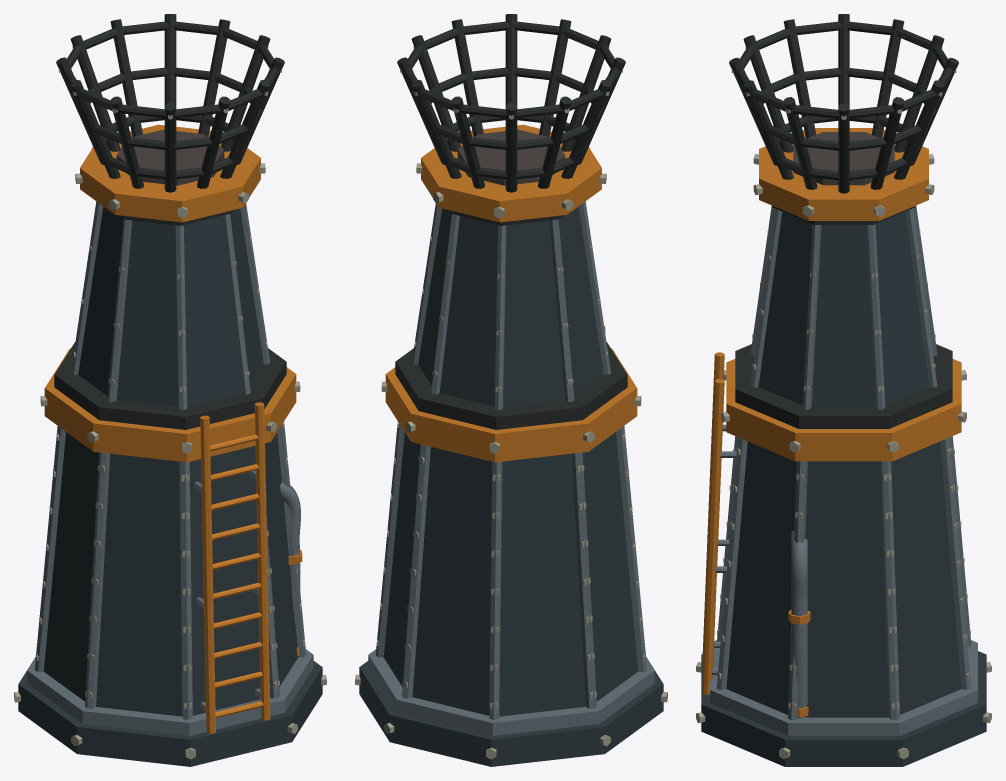
File: wsc-kit-007-storm-beacon.glb
3 renders of one model, left to right at view 1: azimuth 30°, elevation 25°; view 2: azimuth 150°, elevation 25°; view 3: azimuth 270°, elevation 25°, orthographic.
Parts seen in each view (by area): view 1: Beacon_Body_and_Socket, Beacon_Cage_and_Hardware; view 2: Beacon_Body_and_Socket, Beacon_Cage_and_Hardware; view 3: Beacon_Body_and_Socket, Beacon_Cage_and_Hardware.
Boxes of the visible parts, <box> form: Beacon_Body_and_Socket: <box>18,124,322,766</box>; Beacon_Cage_and_Hardware: <box>14,14,326,759</box>; Beacon_Body_and_Socket: <box>359,124,663,766</box>; Beacon_Cage_and_Hardware: <box>355,14,667,759</box>; Beacon_Body_and_Socket: <box>701,128,986,766</box>; Beacon_Cage_and_Hardware: <box>696,14,991,759</box>.
Bounding box in the file's own units: 2.26 × 5.47 × 2.26.
